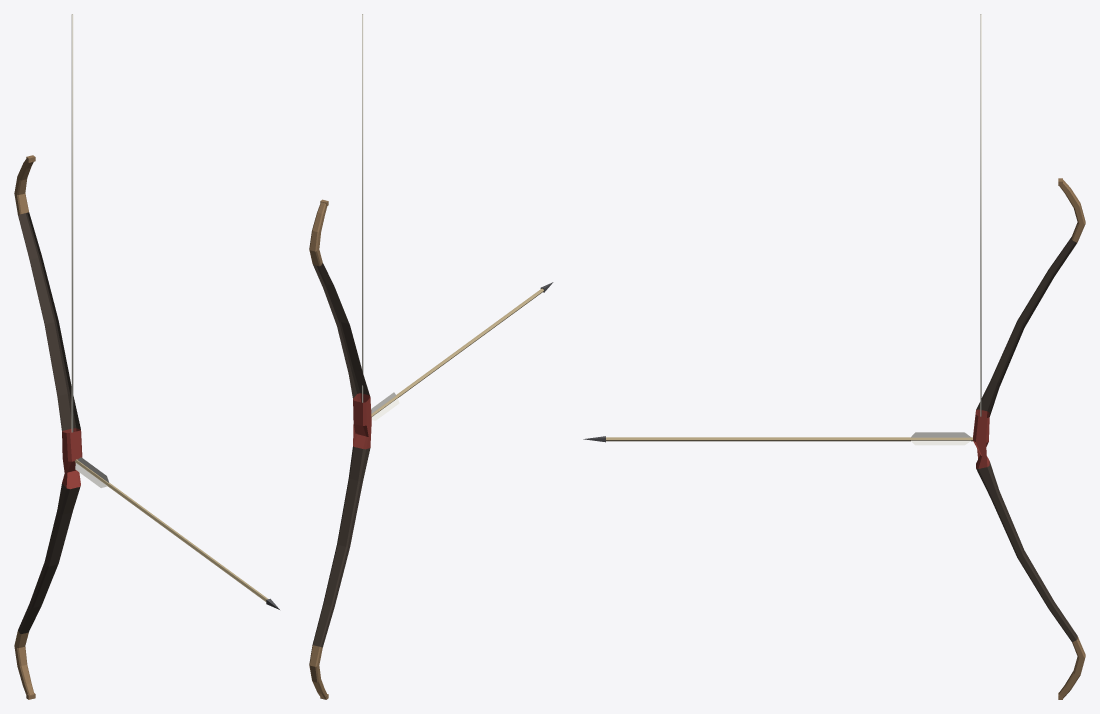
Rendered from Bow.fbx.
The picture shows the model from 3 angles, left to right: view 1: azimuth 30°, elevation 25°; view 2: azimuth 150°, elevation 25°; view 3: azimuth 270°, elevation 25°; orthographic projection. The views are drawn at different scales.
Parts seen in each view (by area): view 1: Bow, Arrow, BowStringSegment; view 2: Bow, Arrow, BowStringSegment; view 3: Bow, Arrow, BowStringSegment.
Part boxes in pixels (x1,y1,x2,y2): Bow: [14, 155, 82, 699]; Arrow: [75, 457, 279, 609]; BowStringSegment: [71, 14, 73, 432]; Bow: [309, 199, 371, 699]; Arrow: [371, 282, 553, 420]; BowStringSegment: [362, 14, 363, 402]; Bow: [973, 178, 1085, 699]; Arrow: [583, 432, 972, 445]; BowStringSegment: [980, 14, 981, 416].
Size of the model in its own units: 0.034 by 1.61 by 1.07.
